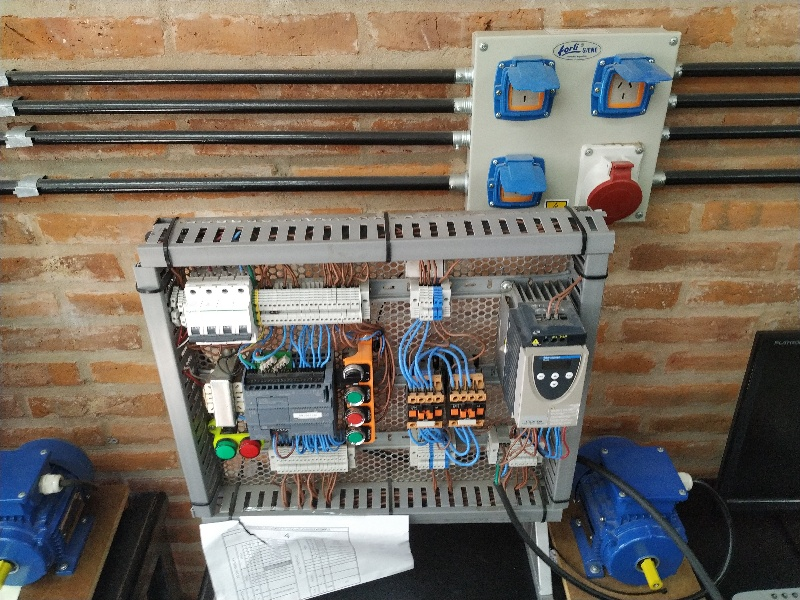Tablero 4: (151, 261, 595, 532)
